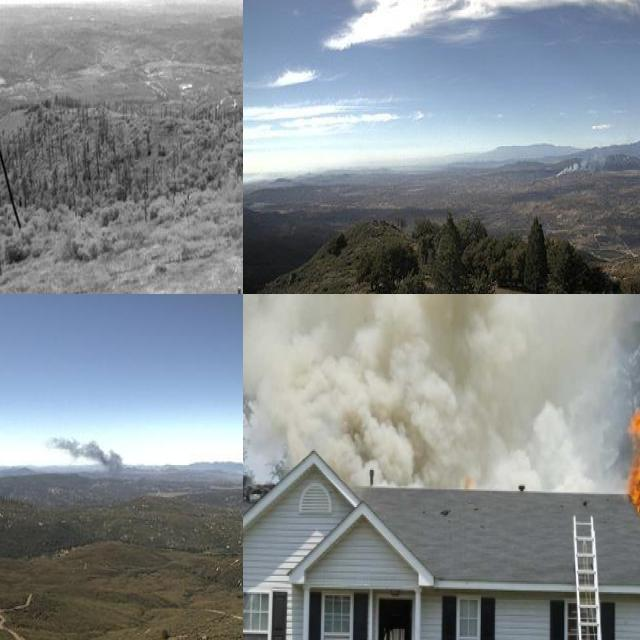smoke: (243, 294, 630, 492), (45, 433, 125, 482), (549, 142, 640, 182)
